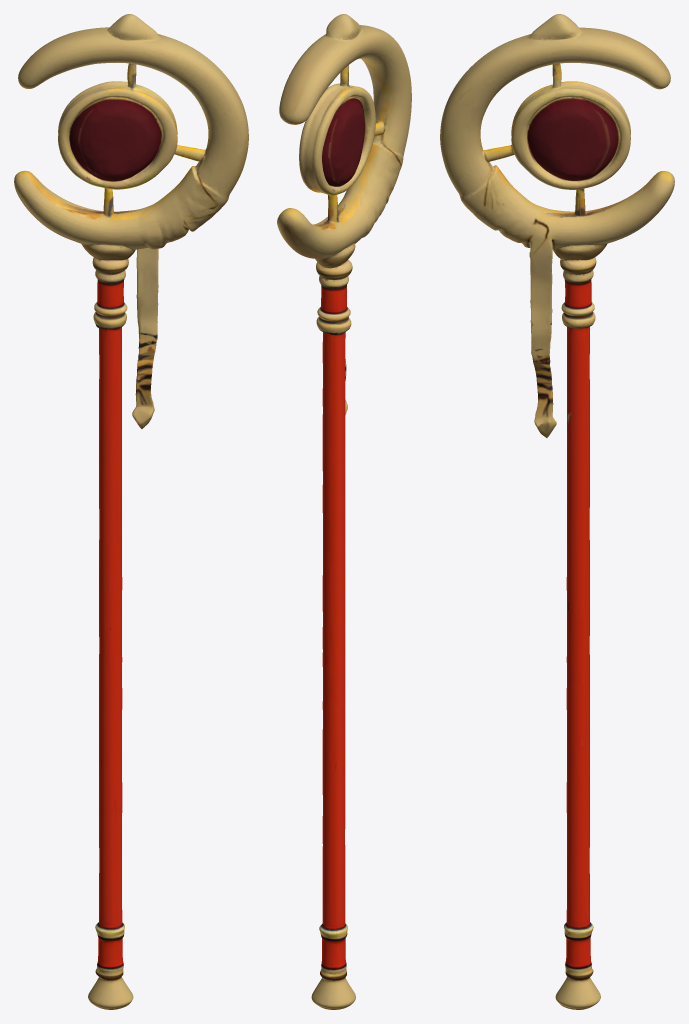
File: sample.glb
3 views of the same model, side by side, from view 1: azimuth 90°, elevation 25°; view 2: azimuth 150°, elevation 25°; view 3: azimuth 270°, elevation 25° (orthographic).
Visible parts, largest first — view 1: tripo_node_d8196a5c-0855-472e-8f47-60c4a2df249a; view 2: tripo_node_d8196a5c-0855-472e-8f47-60c4a2df249a; view 3: tripo_node_d8196a5c-0855-472e-8f47-60c4a2df249a.
Boxes of the visible parts, left/top/right/bottom form: tripo_node_d8196a5c-0855-472e-8f47-60c4a2df249a: left=14, top=14, right=248, bottom=1009; tripo_node_d8196a5c-0855-472e-8f47-60c4a2df249a: left=277, top=14, right=411, bottom=1009; tripo_node_d8196a5c-0855-472e-8f47-60c4a2df249a: left=440, top=14, right=674, bottom=1009.
Bounding box in the file's own units: 0.0421 × 1 × 0.2151.
Materials: 1 (1 with a texture image).
